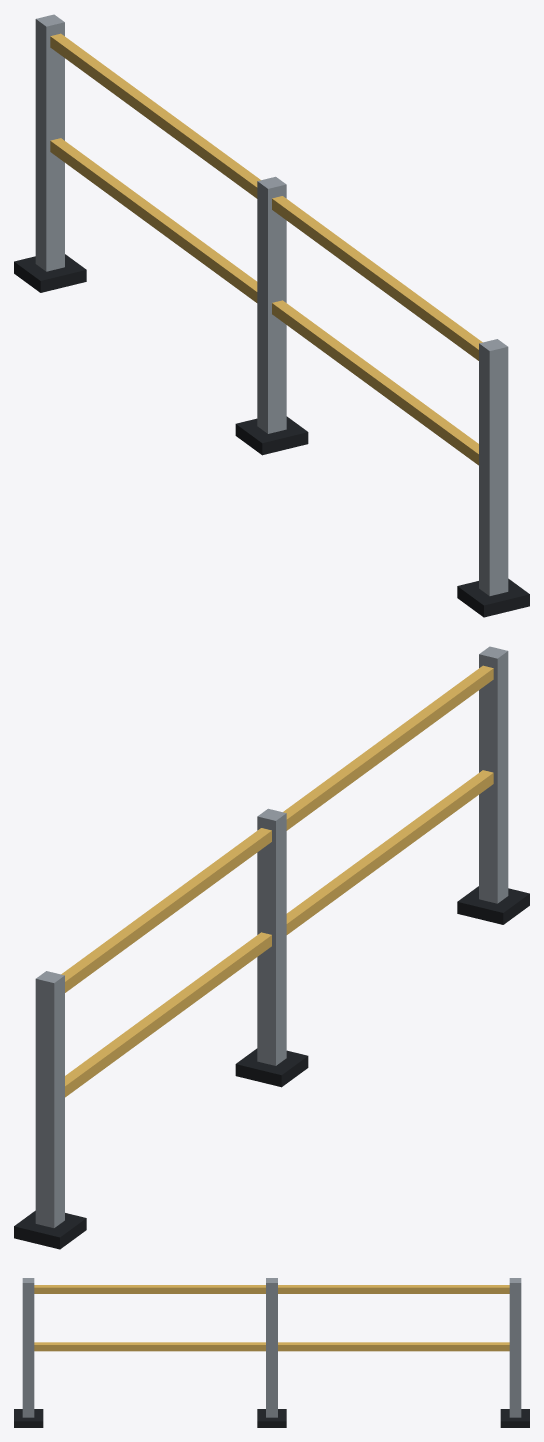
File: env_carrier_deck_rail.fbx
3 renders of one model, top to bottom at view 1: azimuth 30°, elevation 25°; view 2: azimuth 150°, elevation 25°; view 3: azimuth 270°, elevation 25°, orthographic. The views are drawn at different scales.
Visible parts, largest first — view 1: env_carrier_deck_rail; view 2: env_carrier_deck_rail; view 3: env_carrier_deck_rail.
Boxes of the visible parts, box(x1,y1,x2,y2) form: env_carrier_deck_rail: box(14, 14, 529, 617); env_carrier_deck_rail: box(14, 646, 529, 1249); env_carrier_deck_rail: box(14, 1278, 529, 1427).
Size of the model in its own units: 60 by 320 by 1060.
